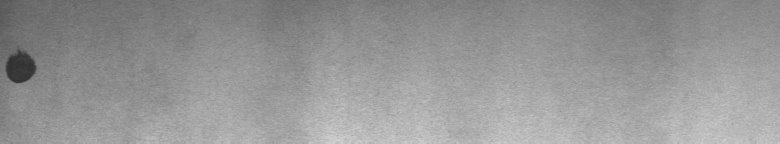fi: (4, 44, 44, 92)
